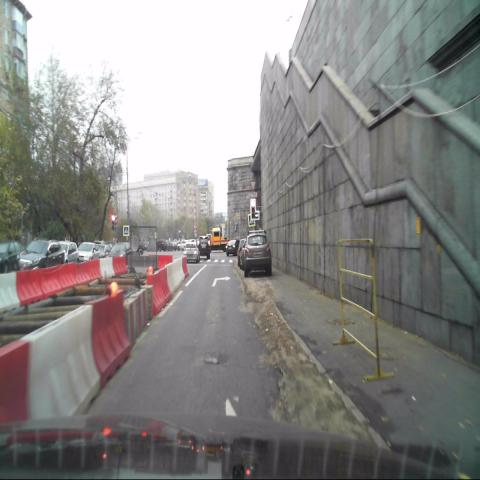5_19_1: (248, 214, 255, 227), (123, 225, 130, 237)
